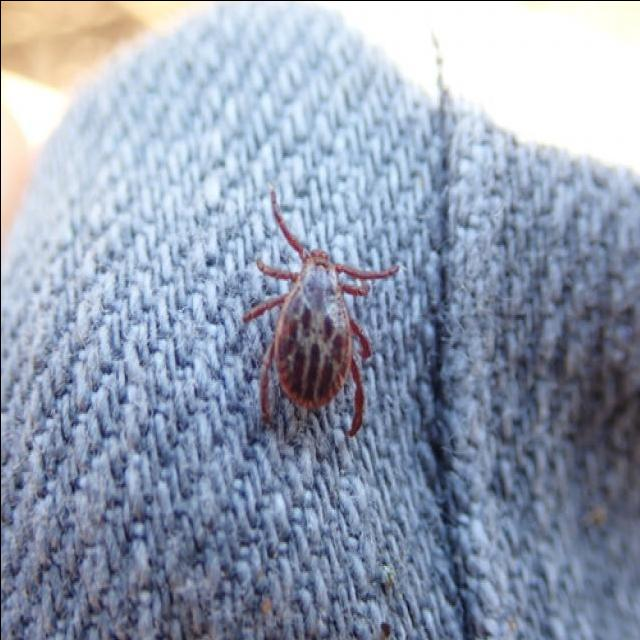Dermacentor Reticulatus-M: (242, 184, 399, 437)
